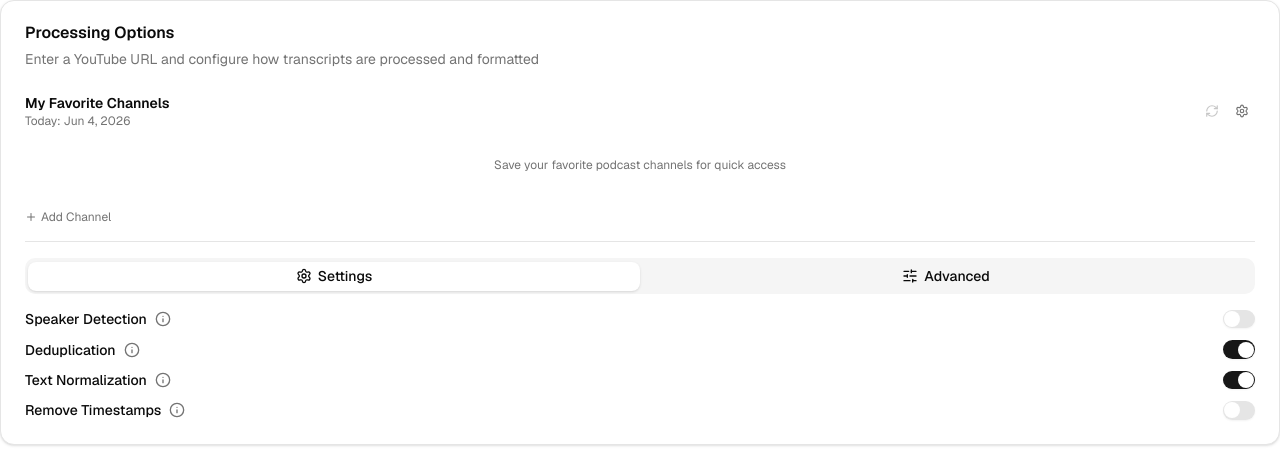
Test: ProcessingOptions › shows advanced settings when Advanced tab clicked
Click the tab "Advanced" at (946, 276), box [640,262,1252,290]
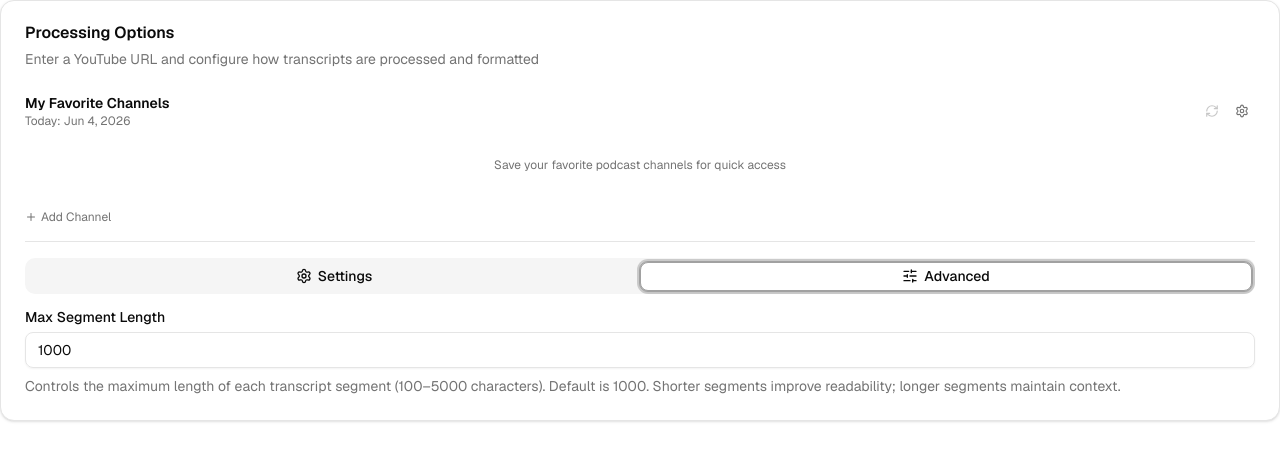
Now the number field labelled "Max Segment Length" is shown, box [25,332,1255,368]
